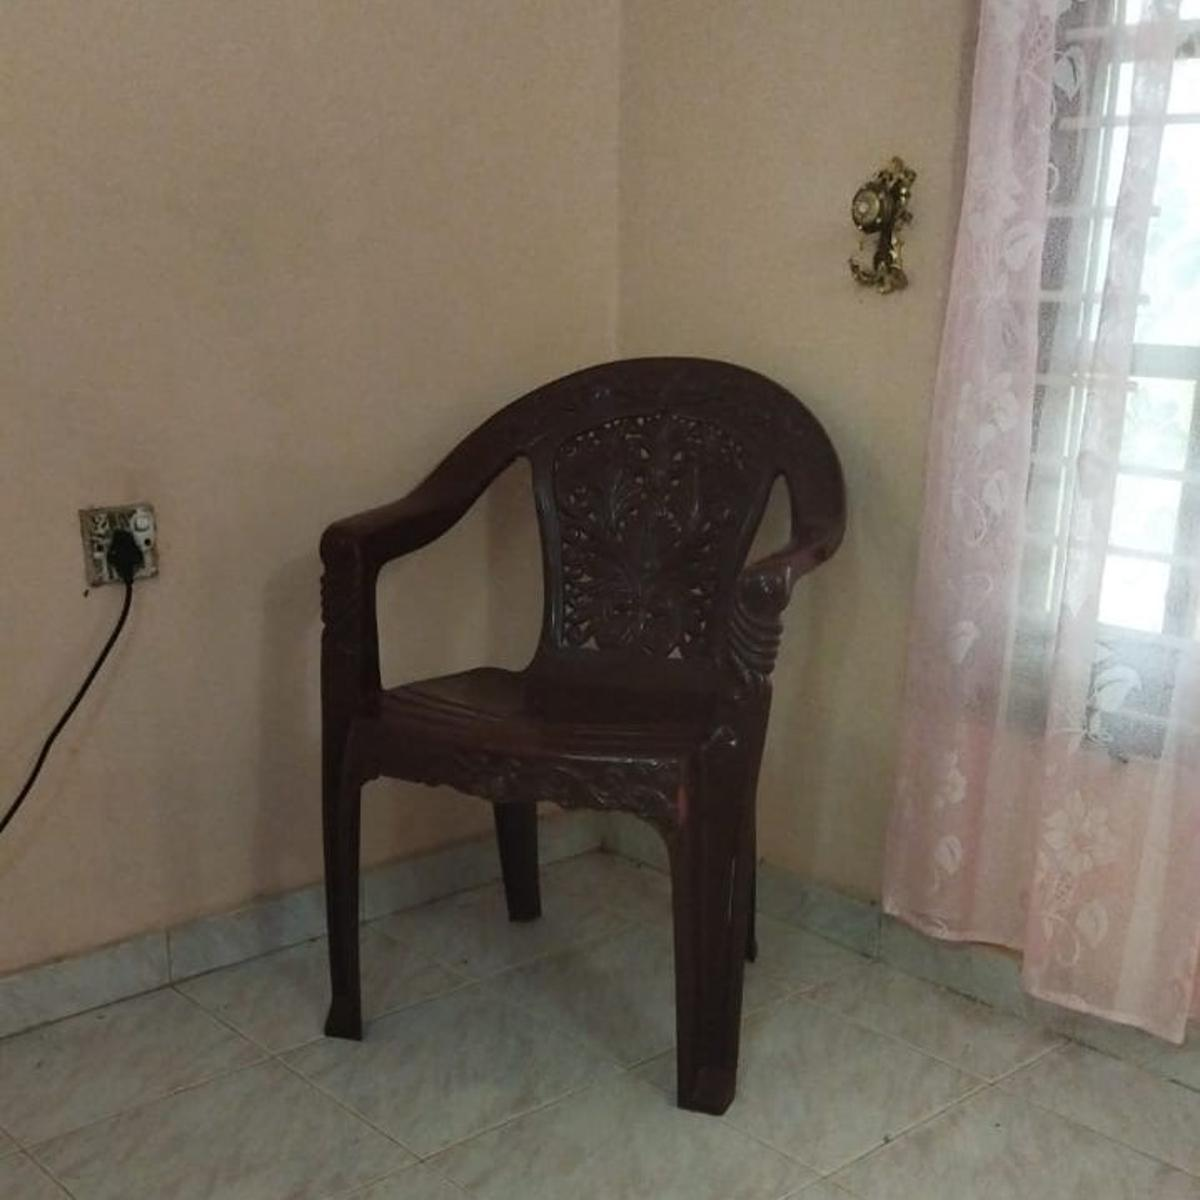Chair: (317, 354, 843, 1118)
